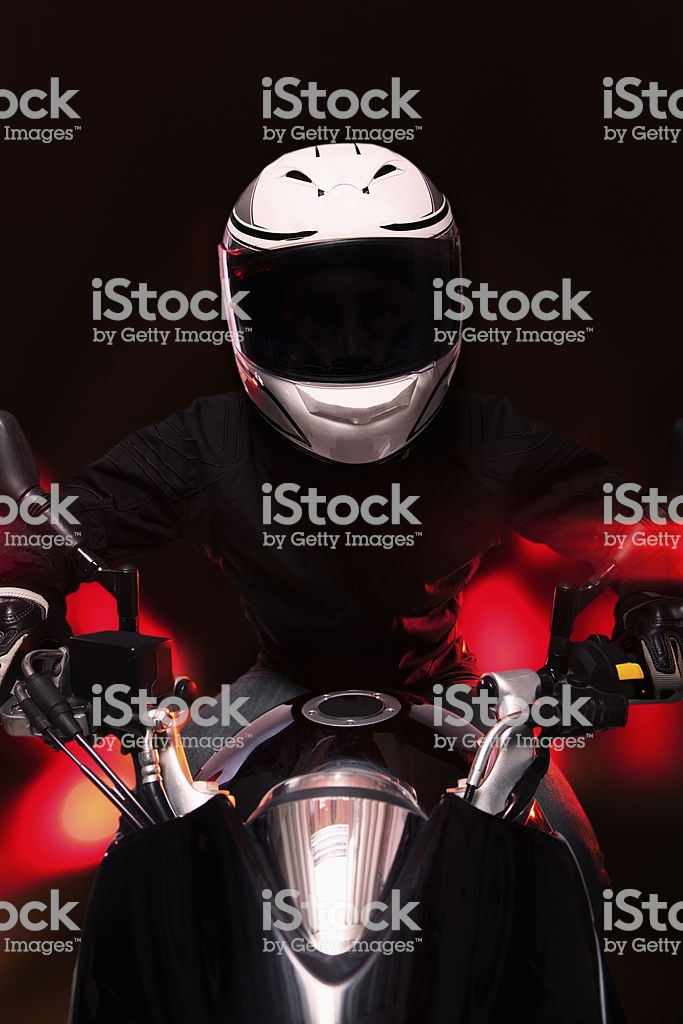helmet: (202, 153, 477, 434)
